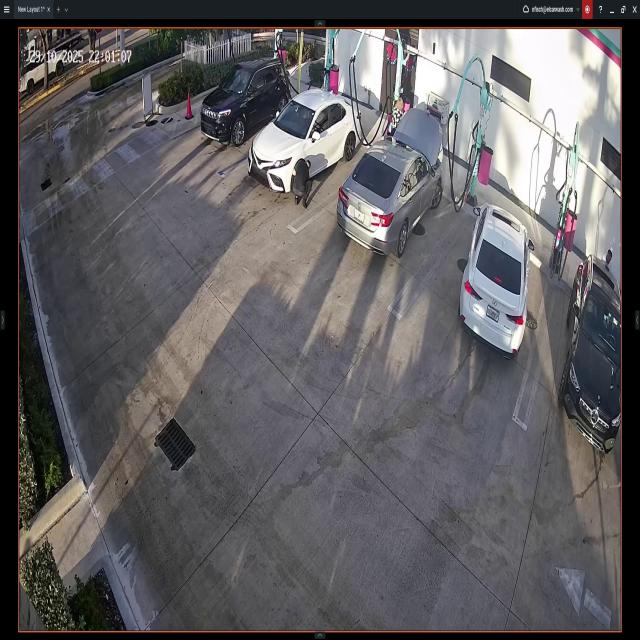Car: (339, 115, 442, 256), (561, 253, 620, 455), (248, 91, 360, 193), (458, 202, 530, 354), (201, 61, 290, 146)
